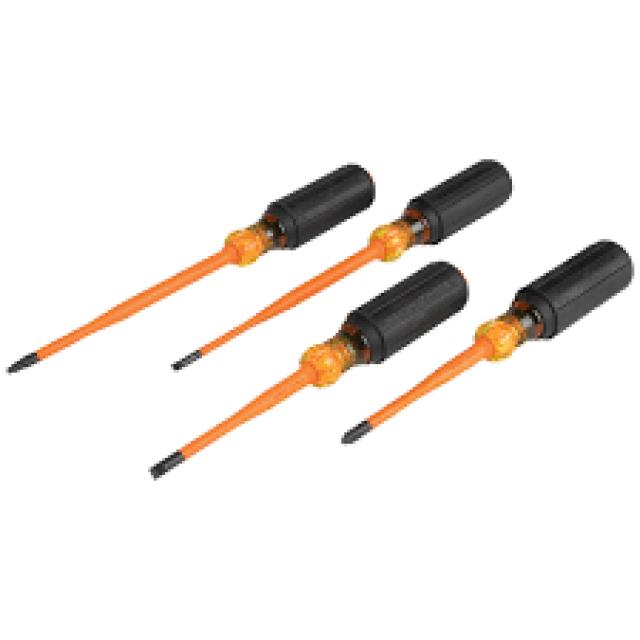screw driver: (318, 248, 640, 511)
